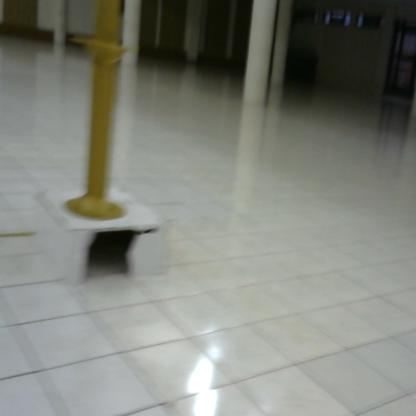pole: (59, 1, 141, 225)
